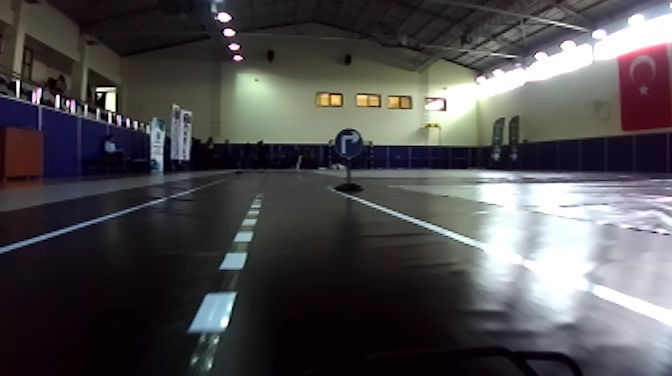saga_donus: (331, 128, 362, 159)
